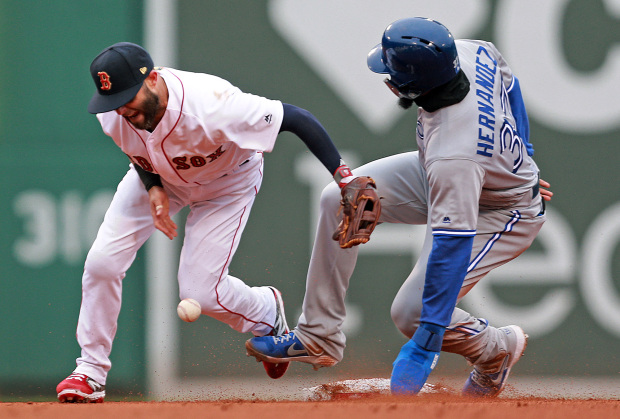Person: (290, 17, 554, 399), (75, 41, 290, 339)
